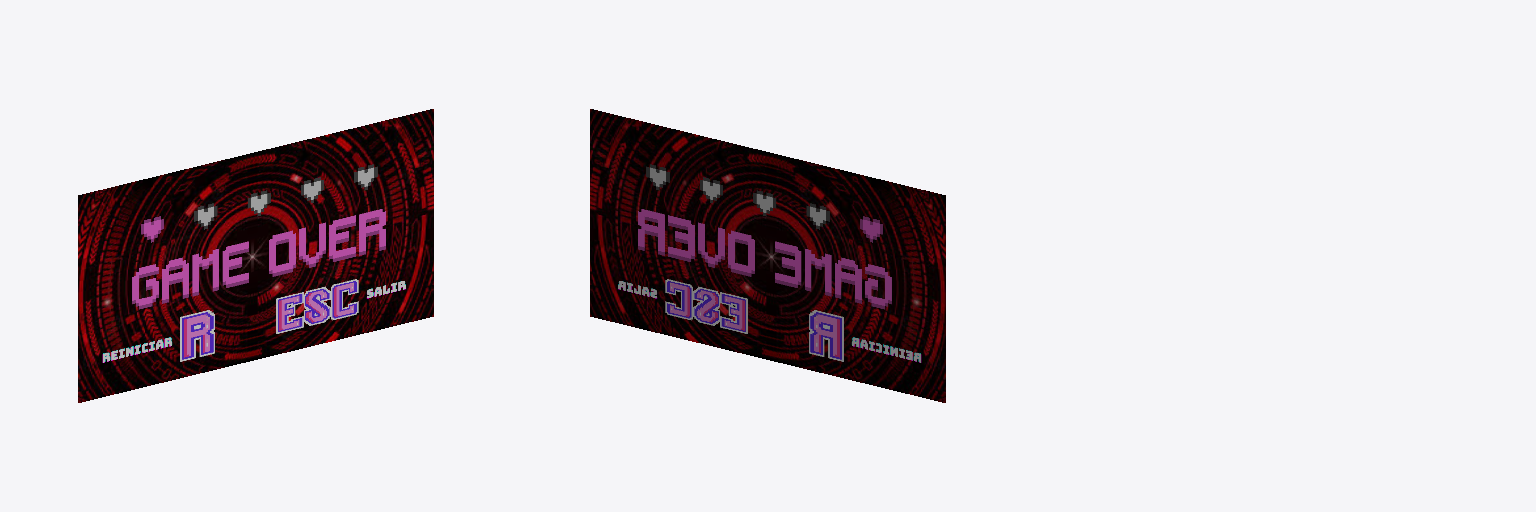
3 views of the same model, side by side, from view 1: azimuth 30°, elevation 25°; view 2: azimuth 150°, elevation 25°; view 3: azimuth 270°, elevation 25° (orthographic).
Parts seen in each view (by area): view 1: Plane; view 2: Plane; view 3: none.
Boxes of the visible parts, <box> form: Plane: <box>78,109,433,402</box>; Plane: <box>590,109,945,402</box>.
Size of the model in its own units: 207 by 116 by 0.
Materials: 1 (1 with a texture image).